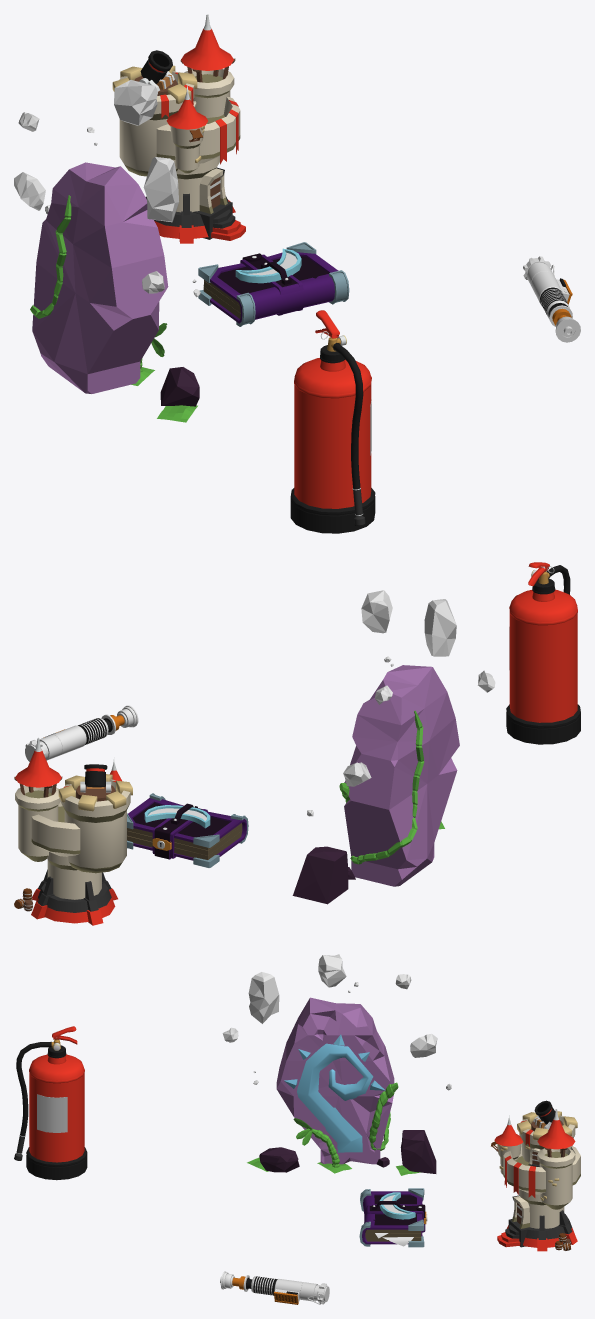
3 views of the same model, one above another, from view 1: azimuth 30°, elevation 25°; view 2: azimuth 150°, elevation 25°; view 3: azimuth 270°, elevation 25° (orthographic). The views are drawn at different scales.
Visible parts, largest first — view 1: rune-stone, tower, body.001, book, bottom, body, Cylinder.002, shlang, mainbody; view 2: rune-stone, tower, body.001, book, bottom, body, Cylinder.002, mainbody; view 3: rune-stone, tower, book, body.001, Cylinder.002, bottom, body.002, body, shlang, mainbody.
Part boxes in pixels (bbox=[...]): rune-stone: bbox=[14, 80, 200, 422]; tower: bbox=[112, 14, 245, 243]; body.001: bbox=[294, 337, 371, 508]; book: bbox=[198, 242, 349, 326]; bottom: bbox=[290, 488, 375, 533]; body: bbox=[294, 358, 371, 394]; Cylinder.002: bbox=[523, 256, 580, 342]; shlang: bbox=[321, 331, 365, 525]; mainbody: bbox=[527, 258, 563, 305]; rune-stone: bbox=[292, 590, 495, 904]; tower: bbox=[14, 737, 132, 925]; body.001: bbox=[509, 571, 577, 722]; book: bbox=[127, 793, 248, 867]; bottom: bbox=[506, 704, 580, 744]; body: bbox=[510, 589, 577, 622]; Cylinder.002: bbox=[25, 705, 138, 756]; mainbody: bbox=[25, 725, 86, 761]; rune-stone: bbox=[222, 954, 451, 1175]; tower: bbox=[491, 1100, 580, 1251]; book: bbox=[359, 1188, 427, 1247]; body.001: bbox=[29, 1039, 84, 1162]; Cylinder.002: bbox=[220, 1271, 327, 1304]; bottom: bbox=[26, 1147, 87, 1180]; body.002: bbox=[37, 1094, 67, 1132]; body: bbox=[29, 1054, 84, 1080]; shlang: bbox=[14, 1031, 57, 1160]; mainbody: bbox=[274, 1278, 329, 1301].
Size of what is drawn, in the model's own units: 1323 by 786 by 1900.
